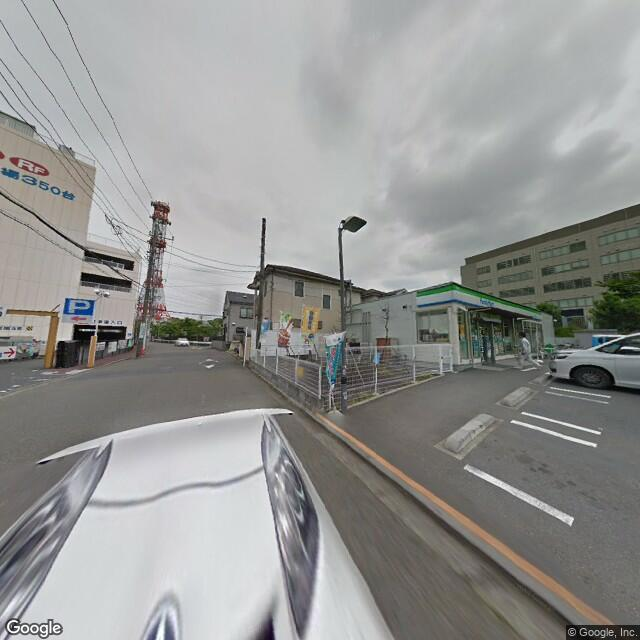family_mart: (415, 281, 546, 326), (447, 280, 544, 327), (472, 293, 499, 310)
